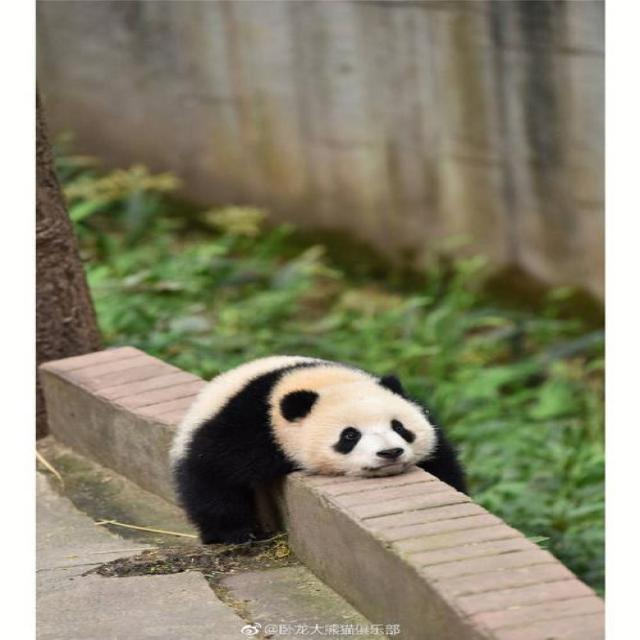panda: (131, 324, 500, 555)
